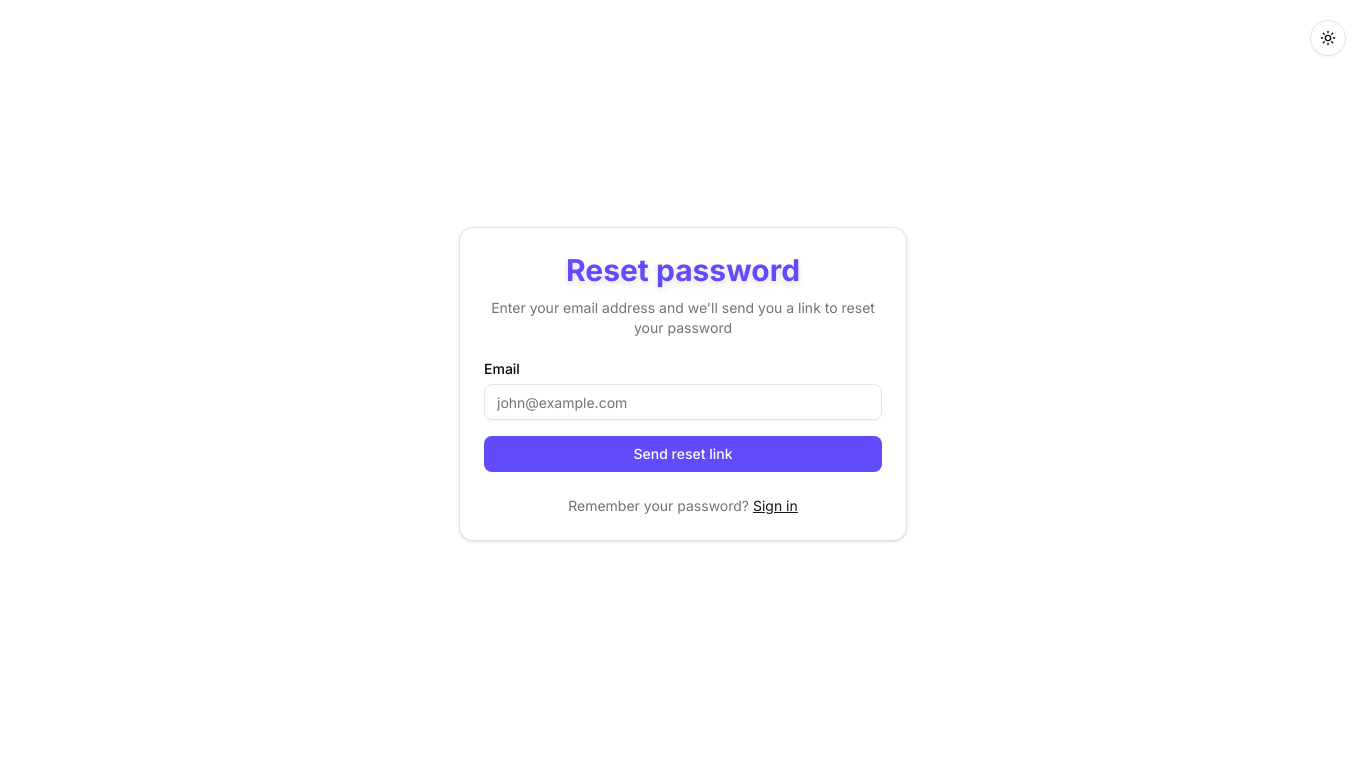
Scenario: ResetPasswordPage › shows validation error when submitted with an empty email
What coordinates should you click on to do the following:
click the button "Send reset link"
I would click on:
 (683, 454)
Its box is [484,436,882,472].
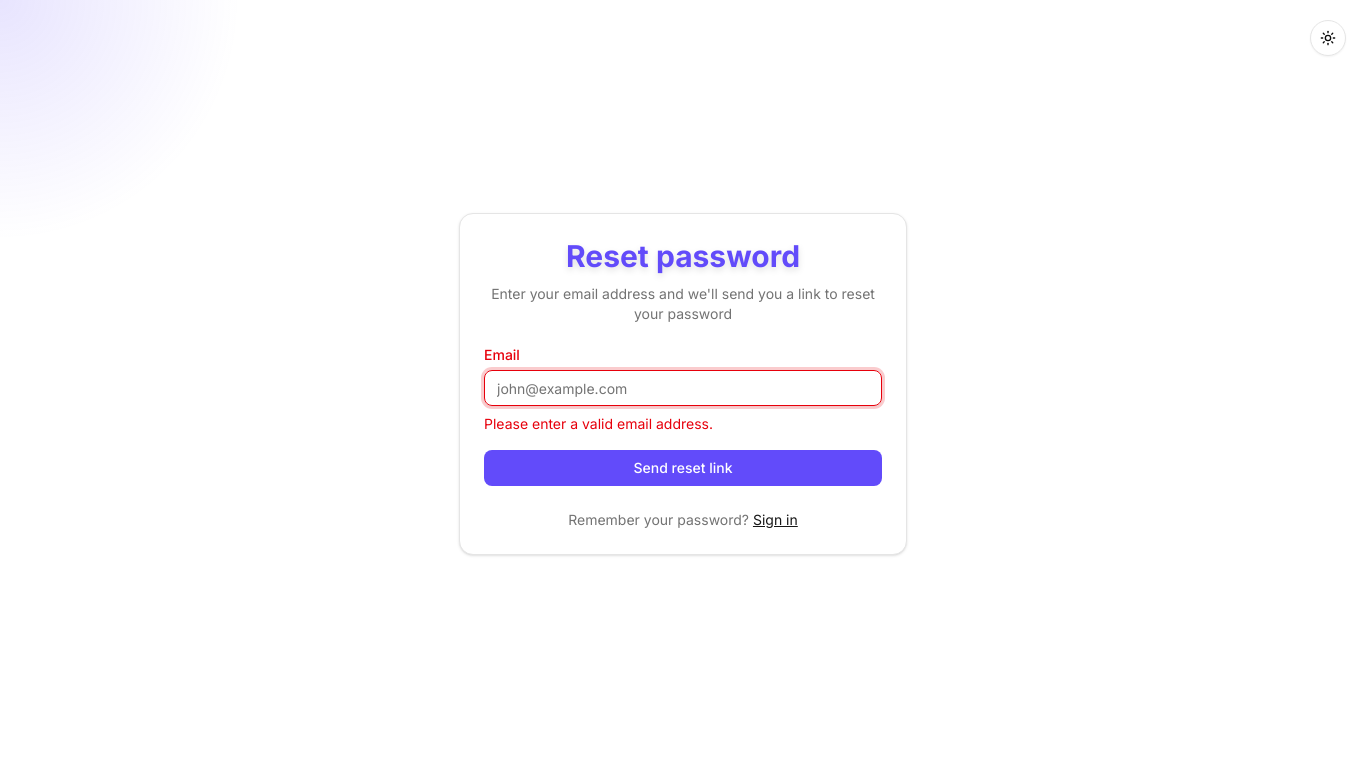
Expected: the text "Please enter a valid email address." is shown, [484,415,713,432]
